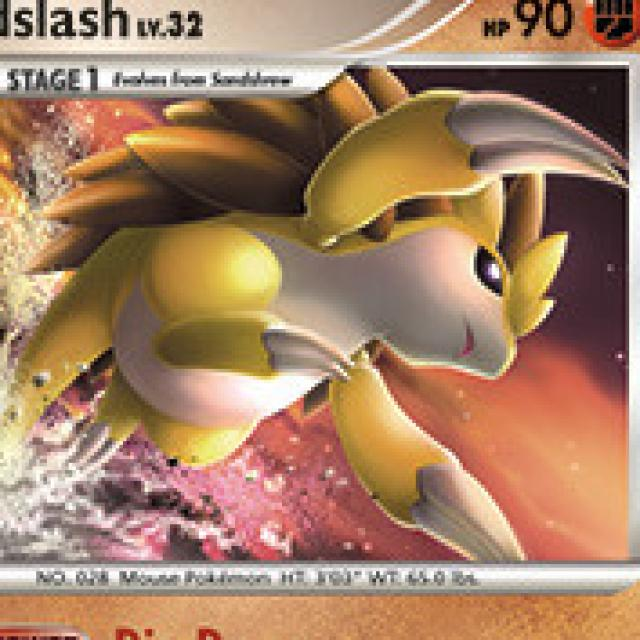Sandslash: (45, 102, 578, 465)
